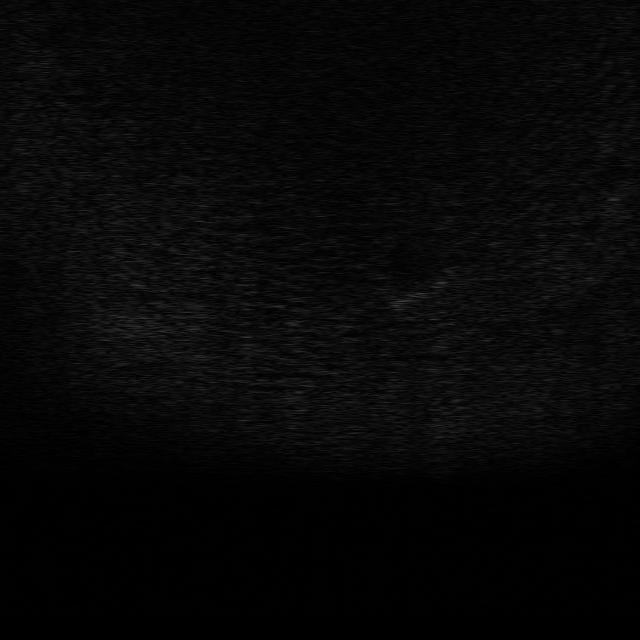plane: (370, 276, 455, 312)
